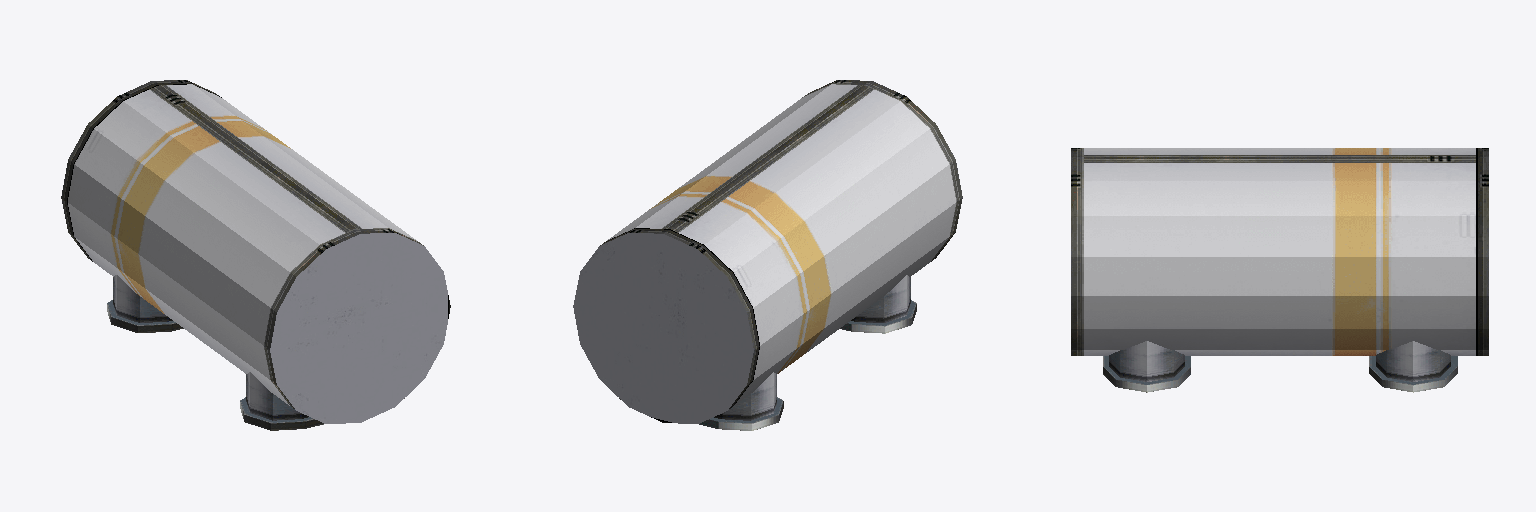
3 views of the same model, side by side, from view 1: azimuth 30°, elevation 25°; view 2: azimuth 150°, elevation 25°; view 3: azimuth 270°, elevation 25° (orthographic).
Visible parts, largest first — view 1: 采暖炉; view 2: 采暖炉; view 3: 采暖炉.
Boxes of the visible parts, <box> form: 采暖炉: <box>61,80,450,430</box>; 采暖炉: <box>573,80,962,430</box>; 采暖炉: <box>1071,148,1488,392</box>.
Size of the model in its own units: 2 by 2.09 by 4.
1 materials, 1 textured.